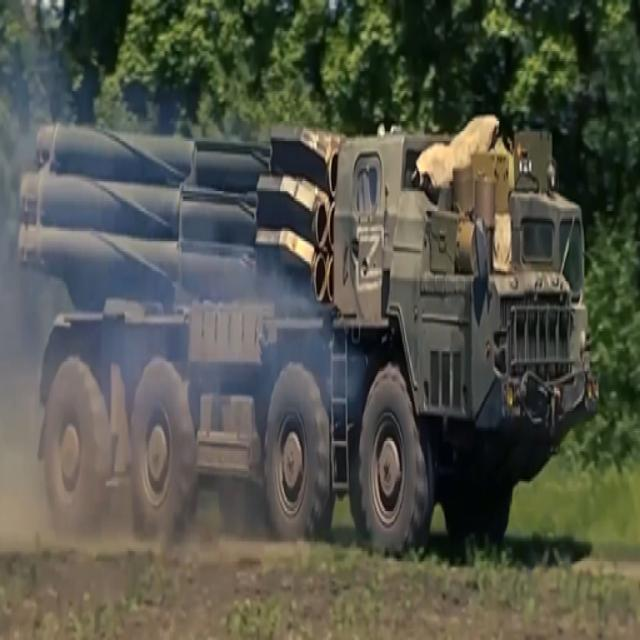MLRS: (18, 109, 594, 562)
